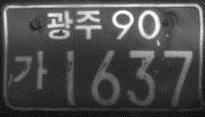0: (137, 8, 162, 40)
1: (63, 47, 79, 107)
3: (126, 49, 156, 106)
6: (89, 47, 122, 107)
7: (162, 48, 196, 109)
9: (111, 7, 134, 40)
가: (12, 50, 48, 92)
광주_O: (46, 8, 102, 42)
